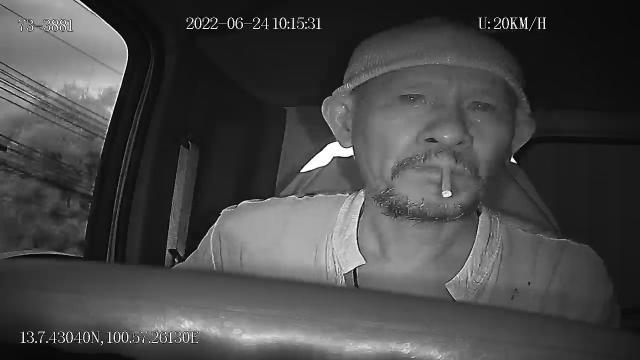SafeDriving: (458, 87, 504, 120), (390, 82, 436, 112)
Smoking: (434, 163, 458, 197)
